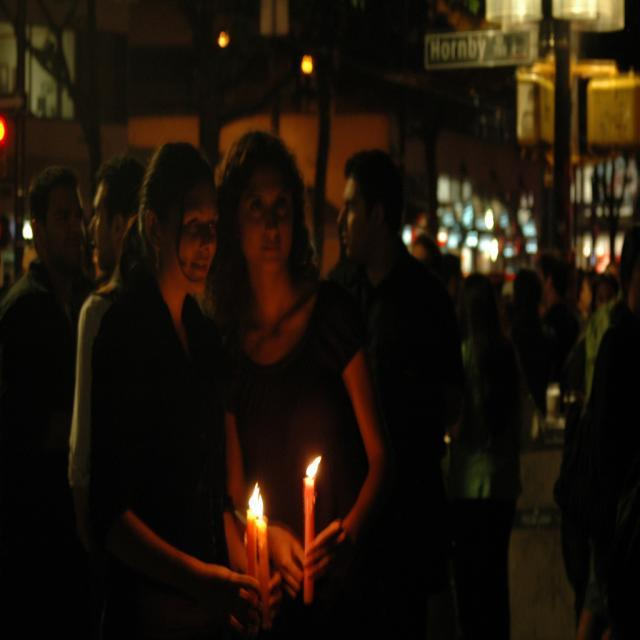Fire: (300, 452, 332, 486), (247, 479, 271, 523)
